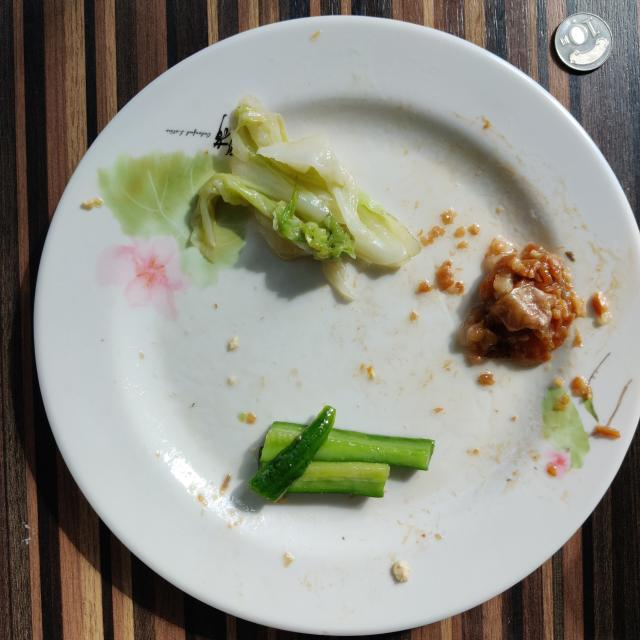Kabayaki sea bream fillet: (458, 239, 585, 365)
cabbage: (190, 95, 421, 301)
coin: (555, 12, 612, 71)
cucumber: (249, 406, 434, 501)
